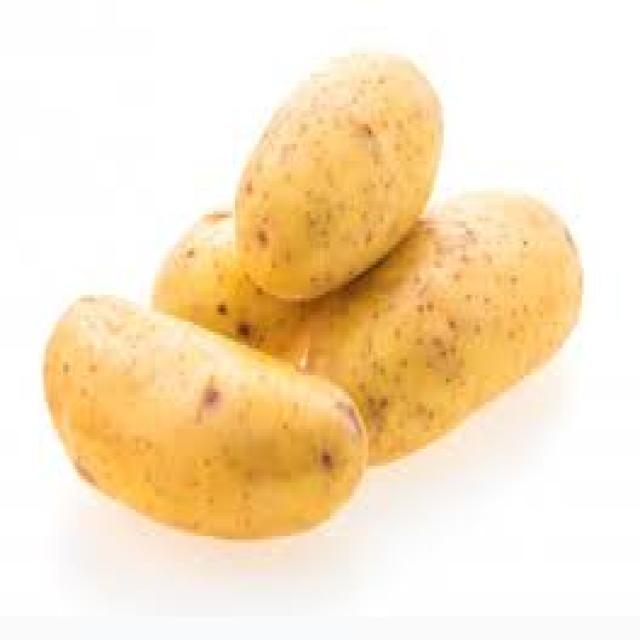Potato: (42, 262, 370, 545), (230, 29, 448, 343)
